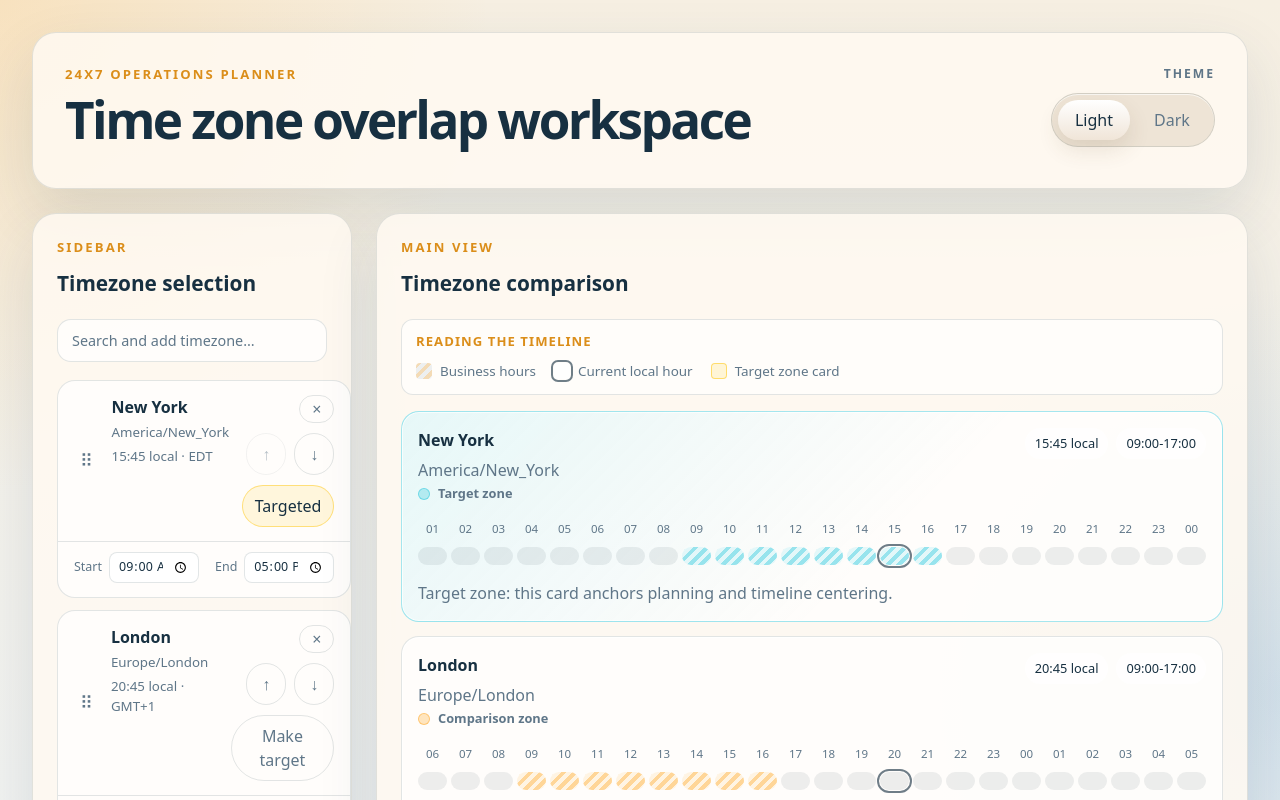
Scenario: App shell › removes a timezone from the selected list via the remove button
The image size is (1280, 800).
Click the button named "remove london". click: coordinates (317, 639)
box: [299,625,334,653]
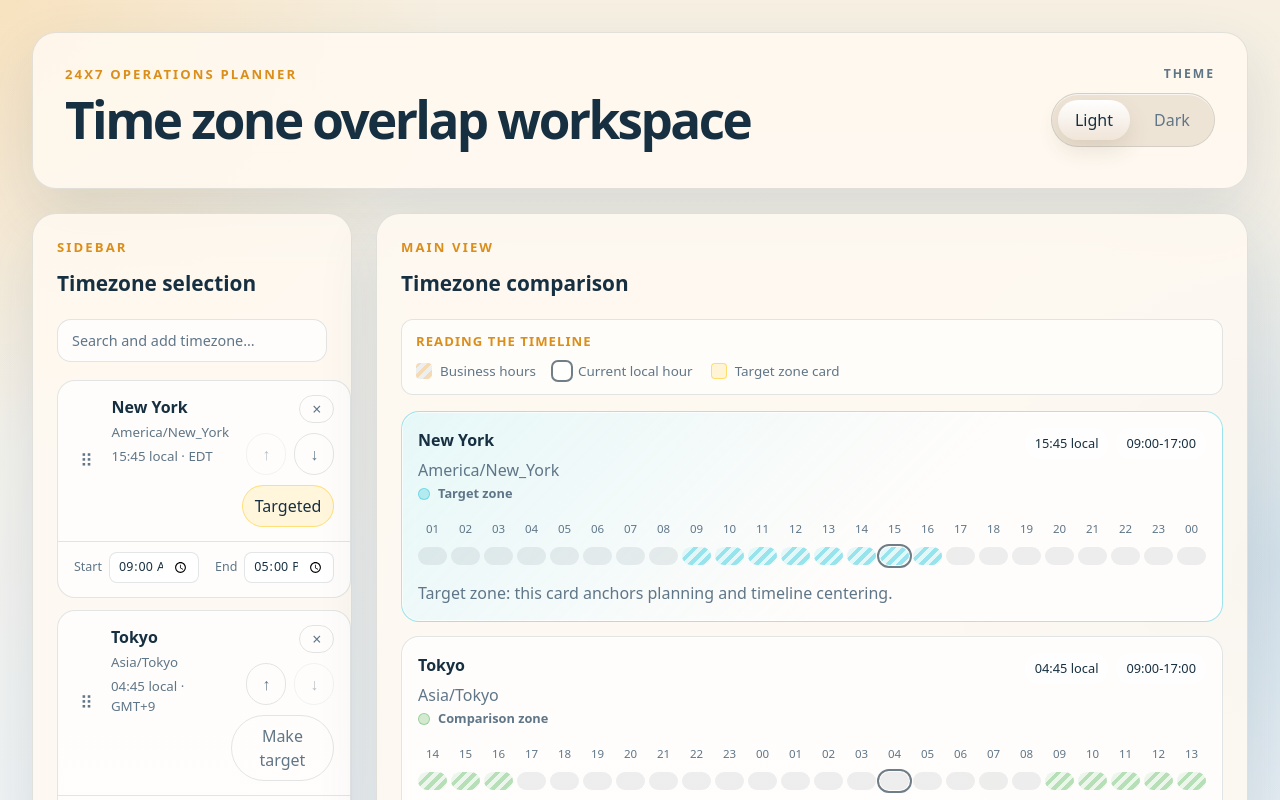
Expected: the text "Europe/London" is gone
